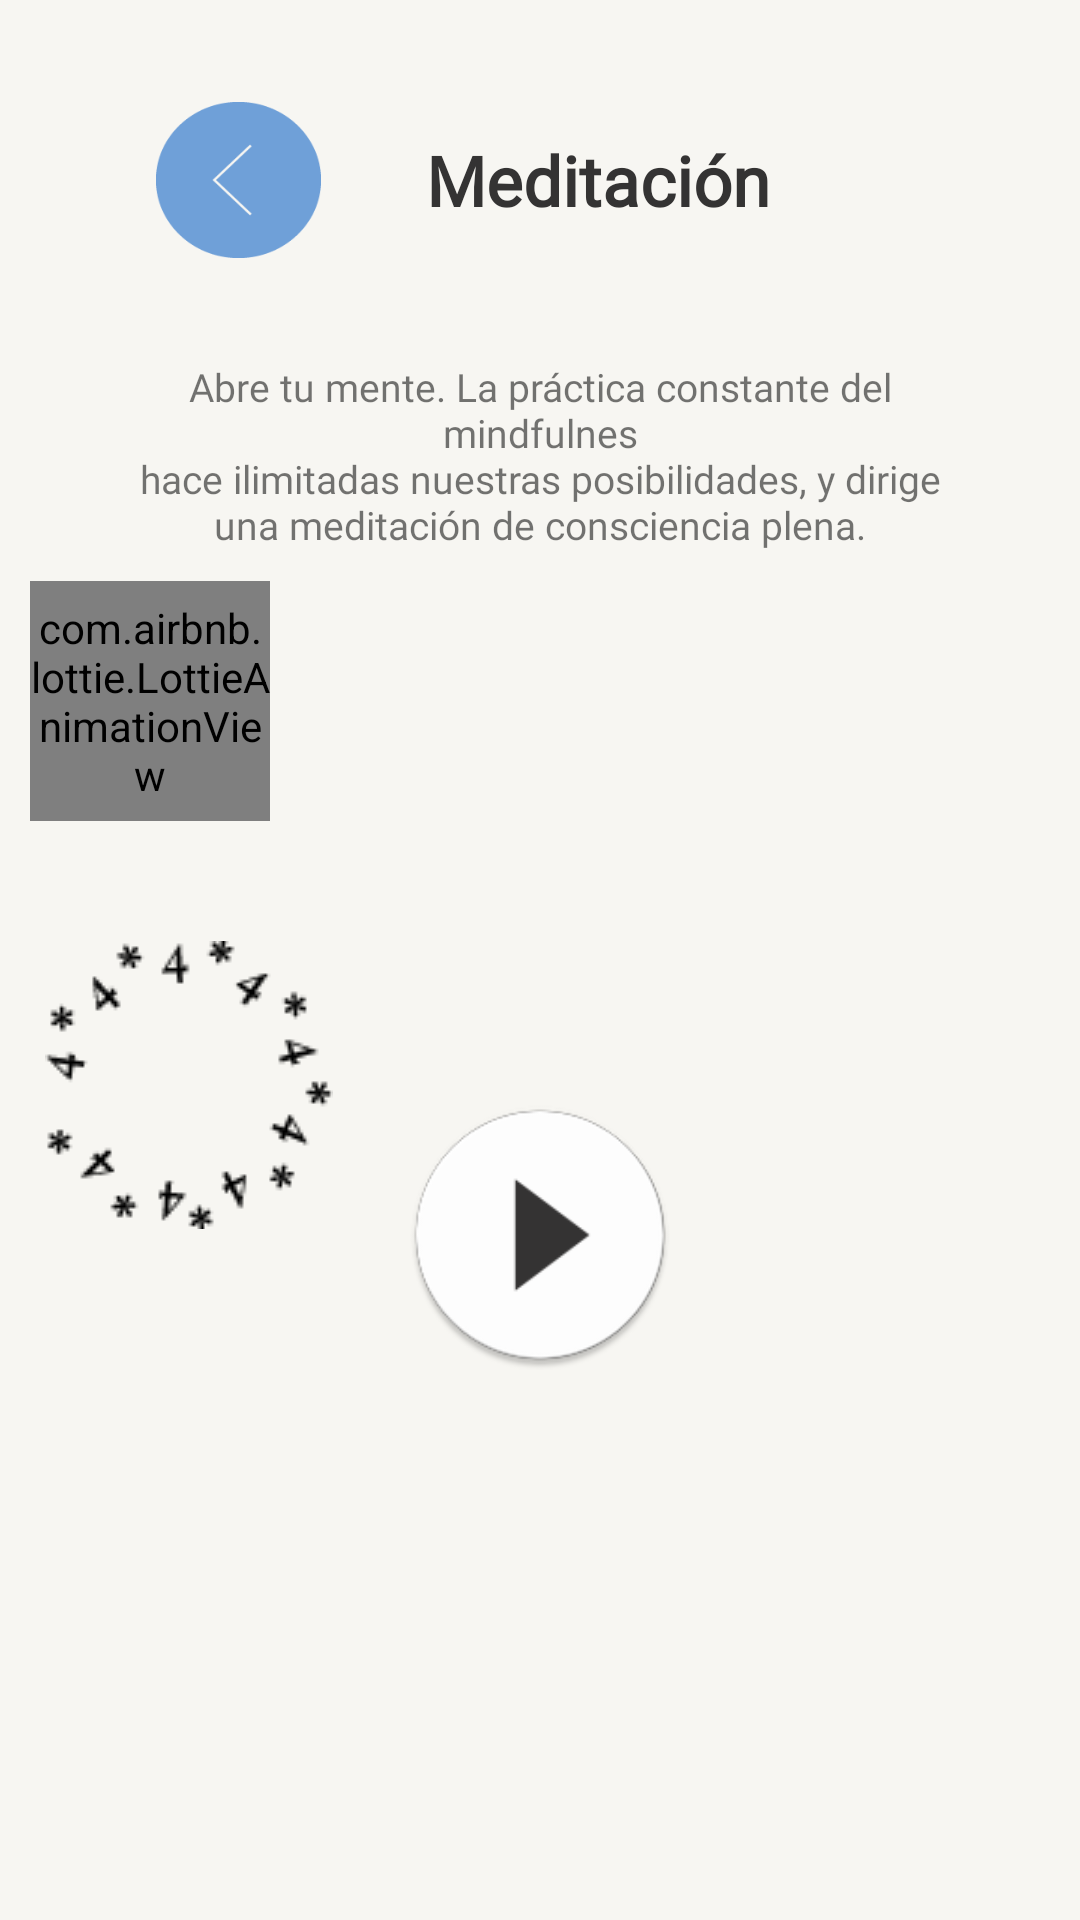

Icons on this 1080 × 1920 Android screen, each with the point to tap as (x,y):
cuatro xdpi: (189,1085)
play video: (540,1238)
regresar xxxdpi: (238,180)
